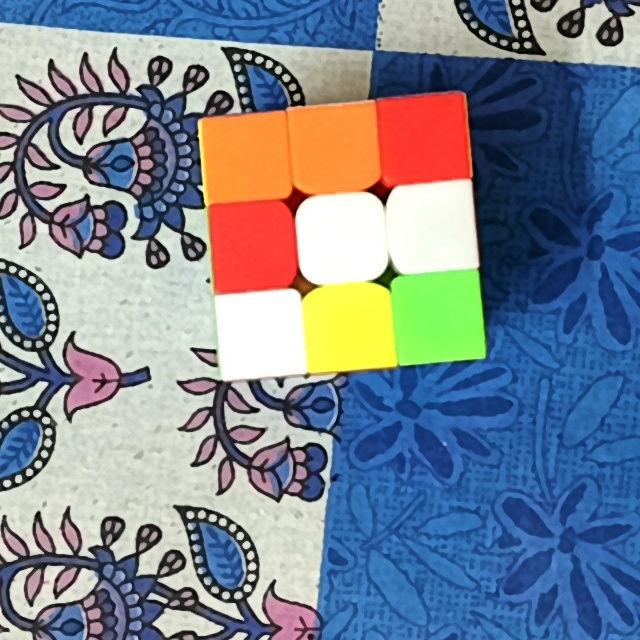tile: (401, 286, 478, 355), (203, 122, 278, 190), (397, 193, 468, 262), (385, 107, 460, 172), (213, 217, 292, 278), (294, 118, 369, 181), (310, 202, 373, 275), (313, 298, 385, 361), (225, 306, 296, 363)
